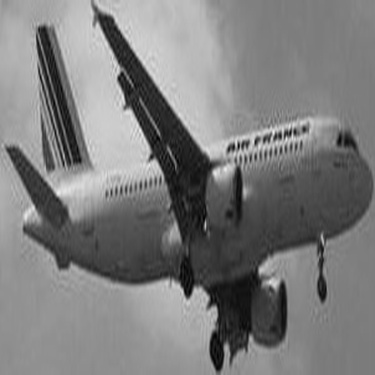airplane: (1, 2, 364, 354)
